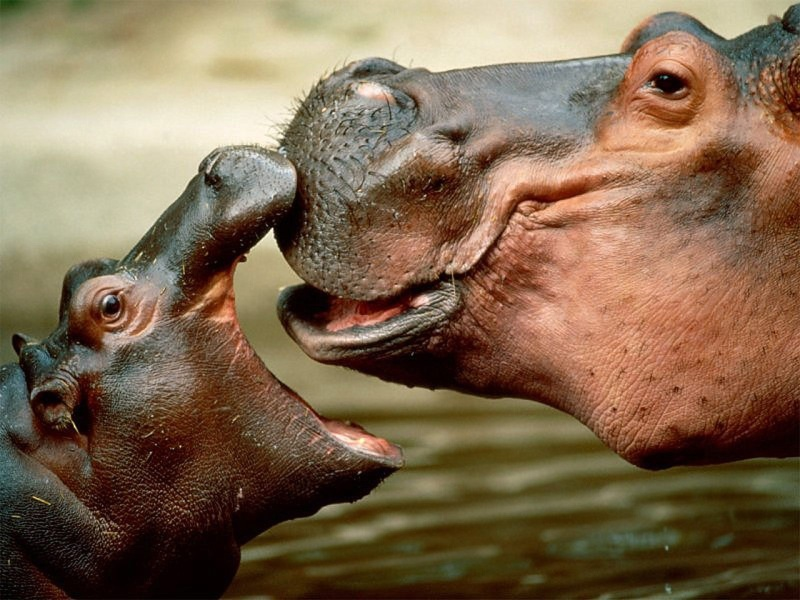hipopotamo: (293, 10, 800, 475), (1, 135, 413, 600)
